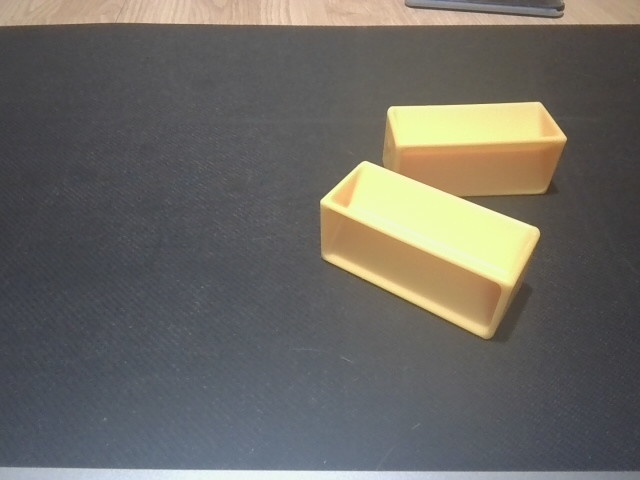YellowSample: (315, 157, 545, 343), (379, 98, 568, 200)
